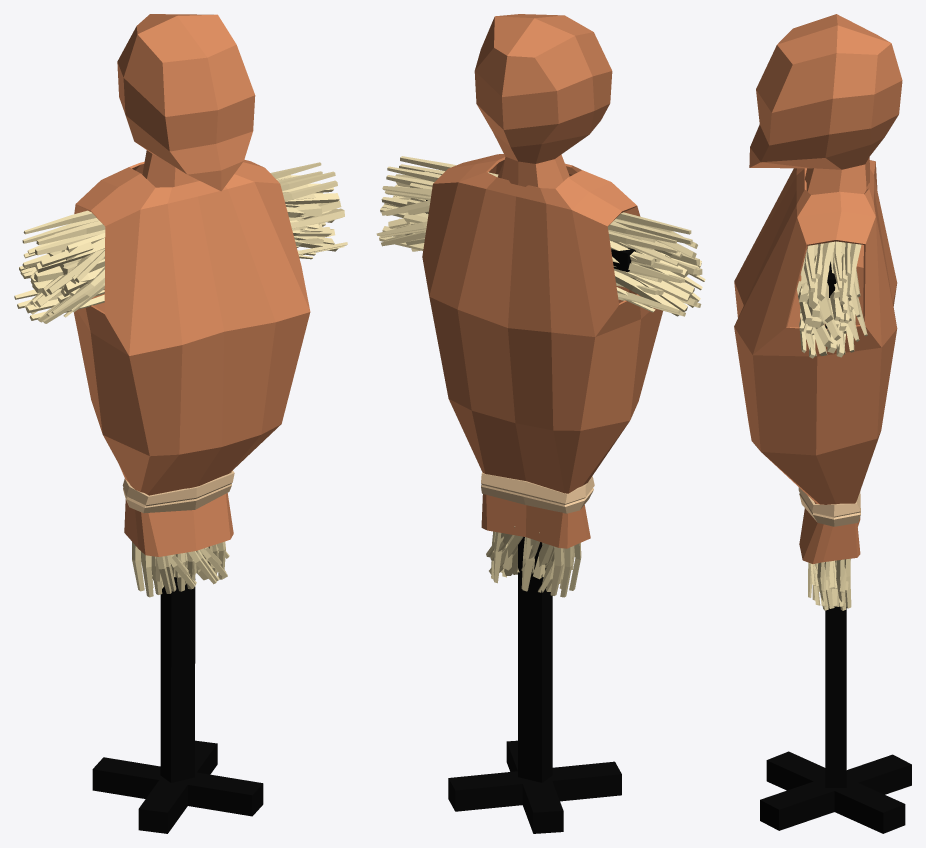
File: Training dummy.fbx
3 views of the same model, side by side, from view 1: azimuth 30°, elevation 25°; view 2: azimuth 150°, elevation 25°; view 3: azimuth 270°, elevation 25° (orthographic).
Parts seen in each view (by area): view 1: Human.003, Cube.005, Human.001; view 2: Human.003, Cube.005, Human.001; view 3: Human.003, Human.001, Cube.005.
Part boxes in pixels (box(x1,y1,x2,y2)): Human.003: box(74, 14, 310, 556); Cube.005: box(14, 162, 347, 597); Human.001: box(92, 564, 263, 833); Human.003: box(422, 14, 662, 548); Cube.005: box(376, 156, 705, 597); Human.001: box(426, 200, 635, 833); Human.003: box(734, 14, 902, 563); Human.001: box(760, 261, 911, 833); Cube.005: box(797, 241, 867, 610).
Bounding box in the file's own units: 71.92 × 173 × 35.89.
